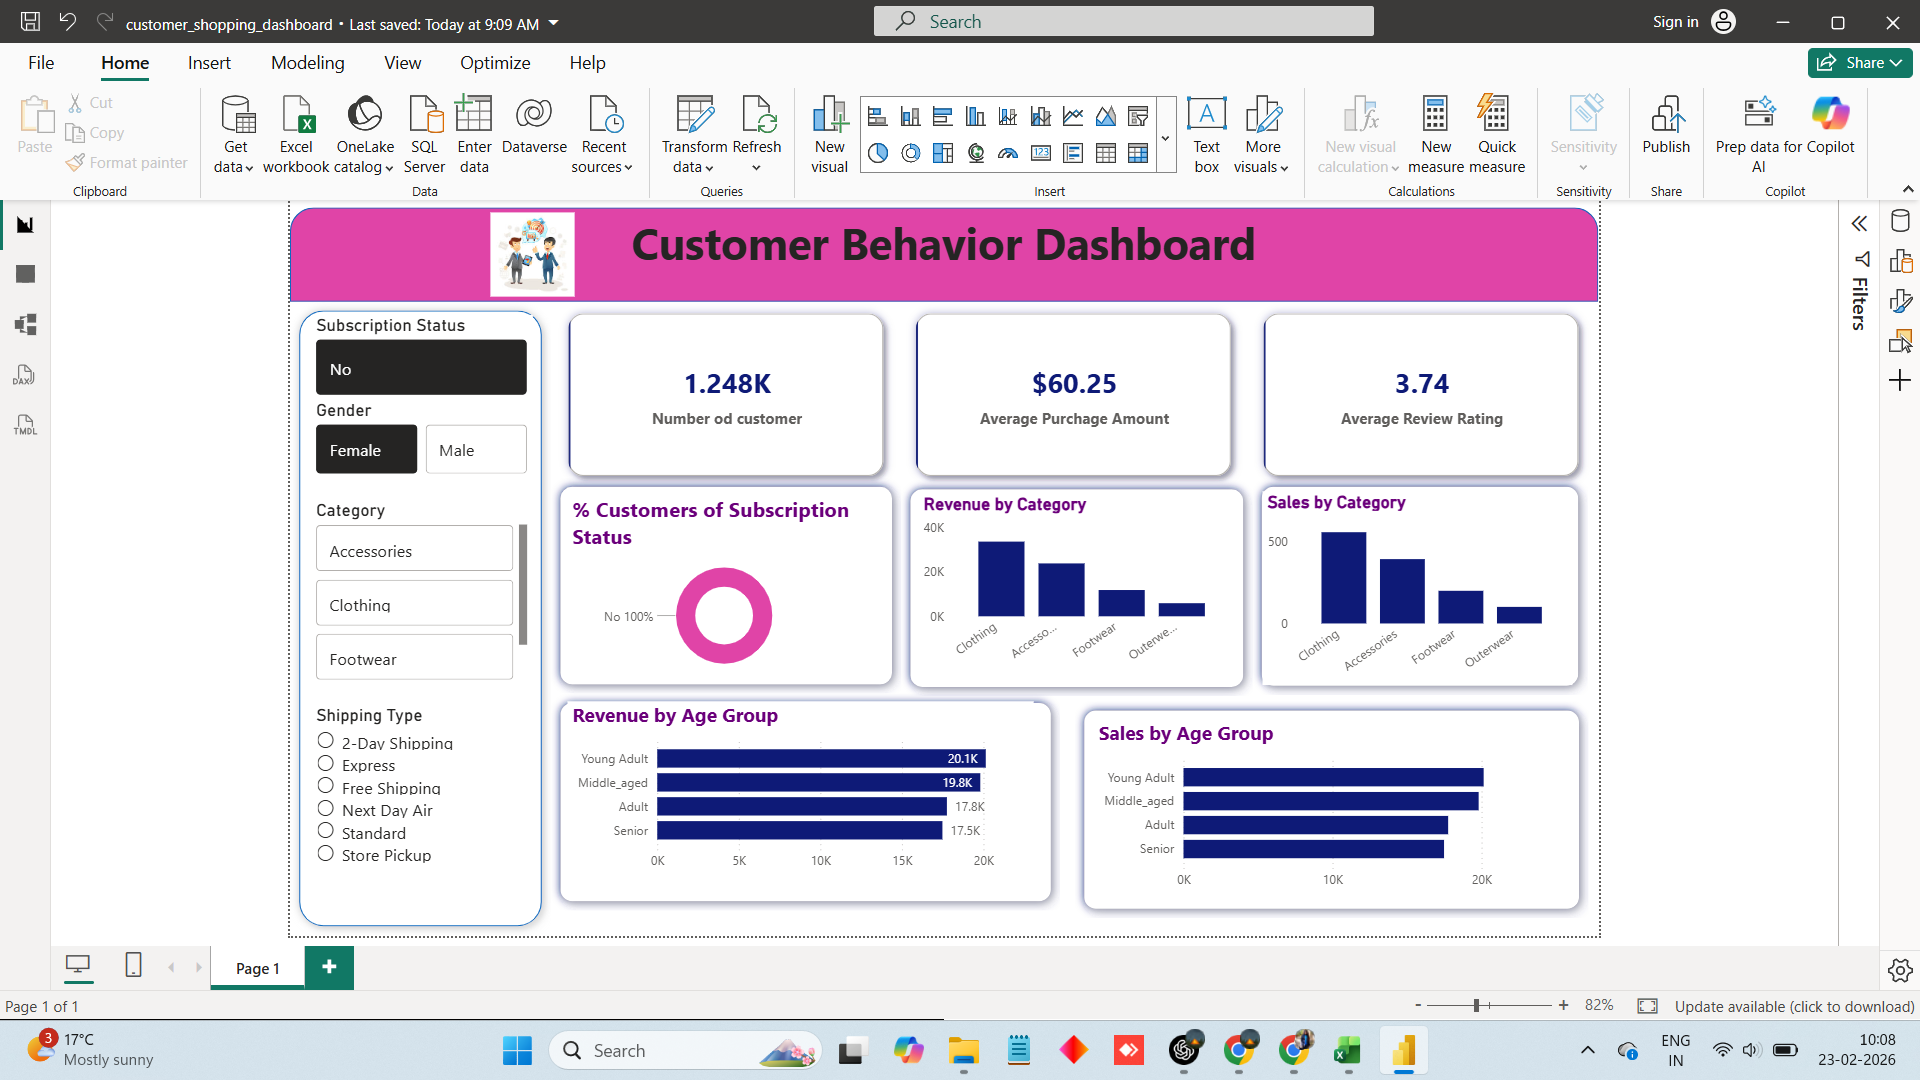

The page's visual inventory and layout, read from the dashboard file:
{"tool":"powerbi","page":{"name":"Page 1","canvas":[1280,720],"ordinal":0},"visuals":[{"type":"cardVisual","fields":{"Data":["customer_shopping customer.Number od customer","customer_shopping customer.Average Purchage Amount","customer_shopping customer.Average Review Rating"]},"box":[255.6,94.2,1024.7,193.2],"z":0},{"type":"shape","box":[255.6,271.5,342.4,211.6],"z":1000},{"type":"shape","box":[0,7.2,1279.7,92.3],"z":2000},{"type":"textbox","box":[10.1,7.2,1259.5,69.3],"z":3000},{"type":"donutChart","title":"% Customers of Subscription Status","fields":{"Category":["customer_shopping customer.subscription_status"],"Y":["CountNonNull(customer_shopping customer.customer_id)"]},"box":[271.5,288.6,306.9,183.4],"z":4000},{"type":"shape","box":[598,273.9,343.6,211.6],"z":5000},{"type":"shape","box":[941.6,271.5,327.7,212.8],"z":6000},{"type":"clusteredColumnChart","title":"Revenue by Category","fields":{"Category":["customer_shopping customer.category"],"Y":["Sum(customer_shopping customer.purchase_amount)"]},"box":[615.1,287.4,310.6,176.1],"z":7000},{"type":"clusteredColumnChart","title":"Sales by Category","fields":{"Category":["customer_shopping customer.category"],"Y":["CountNonNull(customer_shopping customer.customer_id)"]},"box":[951.4,284.9,303.3,189.5],"z":8000},{"type":"shape","box":[0,99.6,255.4,620.4],"z":9000},{"type":"advancedSlicerVisual","fields":{"Values":["customer_shopping customer.subscription_status"]},"box":[20.2,112.5,216.4,83.7],"z":10000},{"type":"advancedSlicerVisual","fields":{"Values":["customer_shopping customer.gender"]},"box":[20.2,196.2,216.4,77.9],"z":11000},{"type":"advancedSlicerVisual","fields":{"Values":["customer_shopping customer.category"]},"box":[20.2,292.9,216.4,180.3],"z":12000},{"type":"shape","box":[255.4,483.3,497.8,212.1],"z":12500},{"type":"clusteredBarChart","title":"Revenue by Age Group","fields":{"Category":["customer_shopping customer.age_group"],"Y":["Sum(customer_shopping customer.purchase_amount)"]},"box":[271.2,490.5,455.9,174.6],"z":13000},{"type":"listSlicer","fields":{"Values":["customer_shopping customer.shipping_type"]},"box":[20.2,493.4,216.4,209.2],"z":14000},{"type":"shape","box":[767.5,490.5,502.1,212.1],"z":15001},{"type":"clusteredBarChart","title":"Sales by Age Group","fields":{"Category":["customer_shopping customer.age_group"],"Y":["Sum(customer_shopping customer.purchase_amount)"]},"box":[786.3,509.3,467.5,174.6],"z":15002},{"type":"image","box":[173.1,7.2,127,92.3],"z":15003}]}

Visuals, with their boxes on the page's 1280x720 design canvas (x1, y1, x2, y2). These are canvas units, not pixel positions in the 1920x1080 screenshot, which may show the page scaled, cropped or inside an application window:
cardVisual - customer_shopping customer.Number od customer x customer_shopping customer.Average Purchage Amount: [x1=256, y1=94, x2=1280, y2=287]
shape: [x1=256, y1=272, x2=598, y2=483]
shape: [x1=0, y1=7, x2=1280, y2=100]
textbox: [x1=10, y1=7, x2=1270, y2=76]
"% Customers of Subscription Status" donutChart: [x1=272, y1=289, x2=578, y2=472]
shape: [x1=598, y1=274, x2=942, y2=486]
shape: [x1=942, y1=272, x2=1269, y2=484]
"Revenue by Category" clusteredColumnChart: [x1=615, y1=287, x2=926, y2=464]
"Sales by Category" clusteredColumnChart: [x1=951, y1=285, x2=1255, y2=474]
shape: [x1=0, y1=100, x2=255, y2=720]
advancedSlicerVisual - customer_shopping customer.subscription_status: [x1=20, y1=112, x2=237, y2=196]
advancedSlicerVisual - customer_shopping customer.gender: [x1=20, y1=196, x2=237, y2=274]
advancedSlicerVisual - customer_shopping customer.category: [x1=20, y1=293, x2=237, y2=473]
shape: [x1=255, y1=483, x2=753, y2=695]
"Revenue by Age Group" clusteredBarChart: [x1=271, y1=490, x2=727, y2=665]
listSlicer - customer_shopping customer.shipping_type: [x1=20, y1=493, x2=237, y2=703]
shape: [x1=768, y1=490, x2=1270, y2=703]
"Sales by Age Group" clusteredBarChart: [x1=786, y1=509, x2=1254, y2=684]
image: [x1=173, y1=7, x2=300, y2=100]
